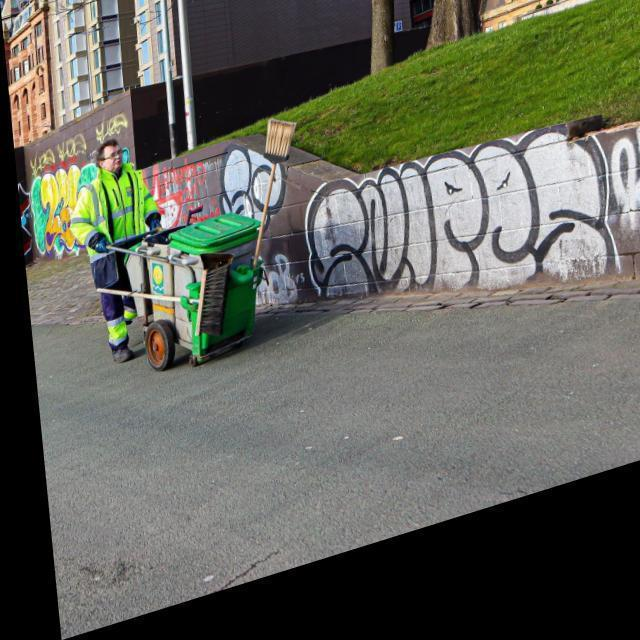nonspitting: (304, 122, 621, 296), (27, 149, 134, 256), (219, 149, 286, 228), (148, 155, 218, 225), (609, 125, 640, 232), (253, 254, 300, 307), (30, 132, 86, 176), (94, 112, 128, 144)
